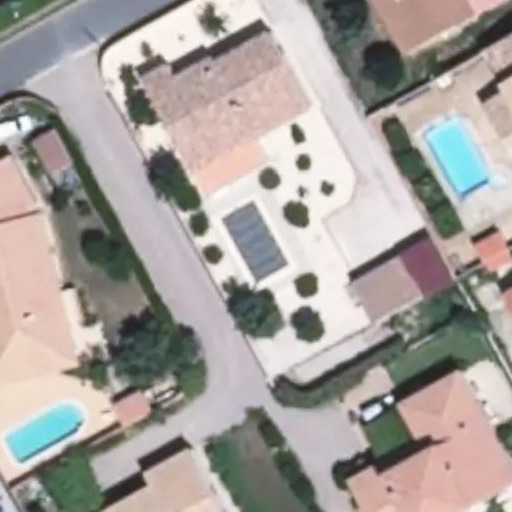pool: (419, 115, 494, 197), (221, 198, 291, 280), (2, 398, 86, 459)
